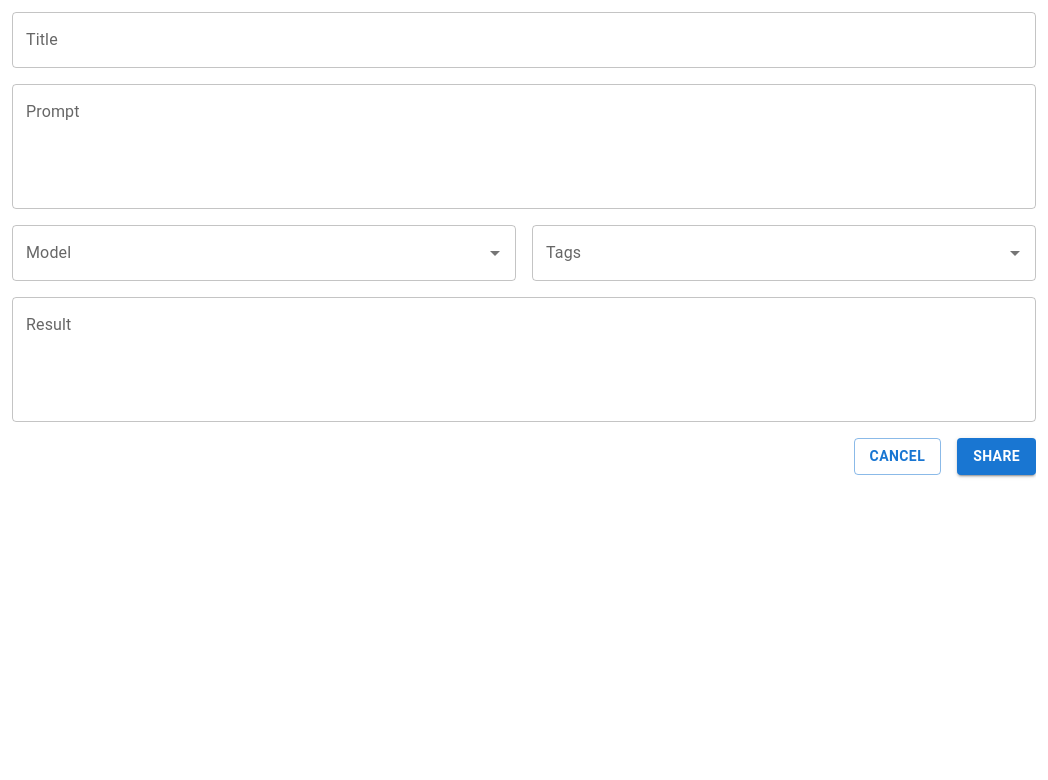
PromptForm › PromptForm creation mode › display errors when fields are empty or with wrong format
The width and height of the screenshot is (1048, 780).
Click the button "Share": click(997, 456) [957,438,1036,474]
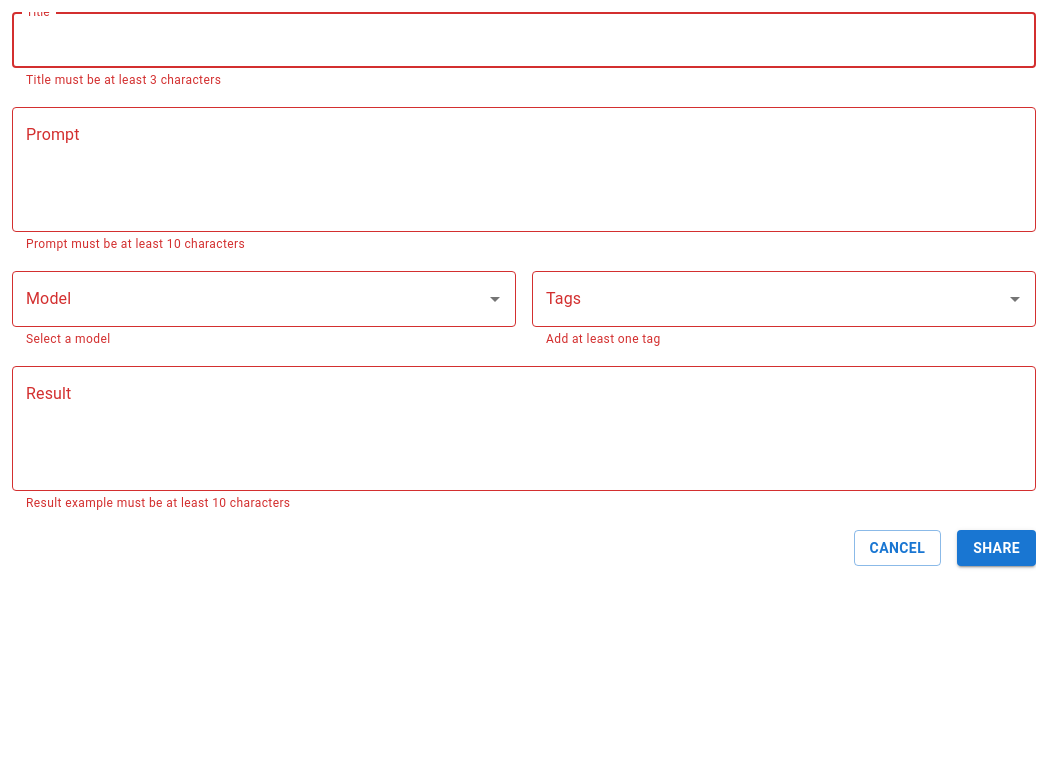
Now the text "Title must be at least 3 characters" is shown, box [26,73,221,87]
Now the text "Prompt must be at least 10 characters" is shown, box [26,237,245,251]
Now the text "Result example must be at least 10 characters" is shown, box [26,496,290,510]
